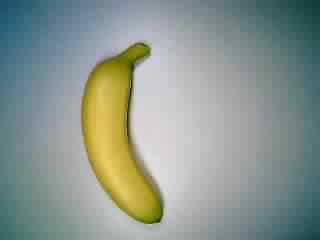banana: (76, 38, 178, 231)
